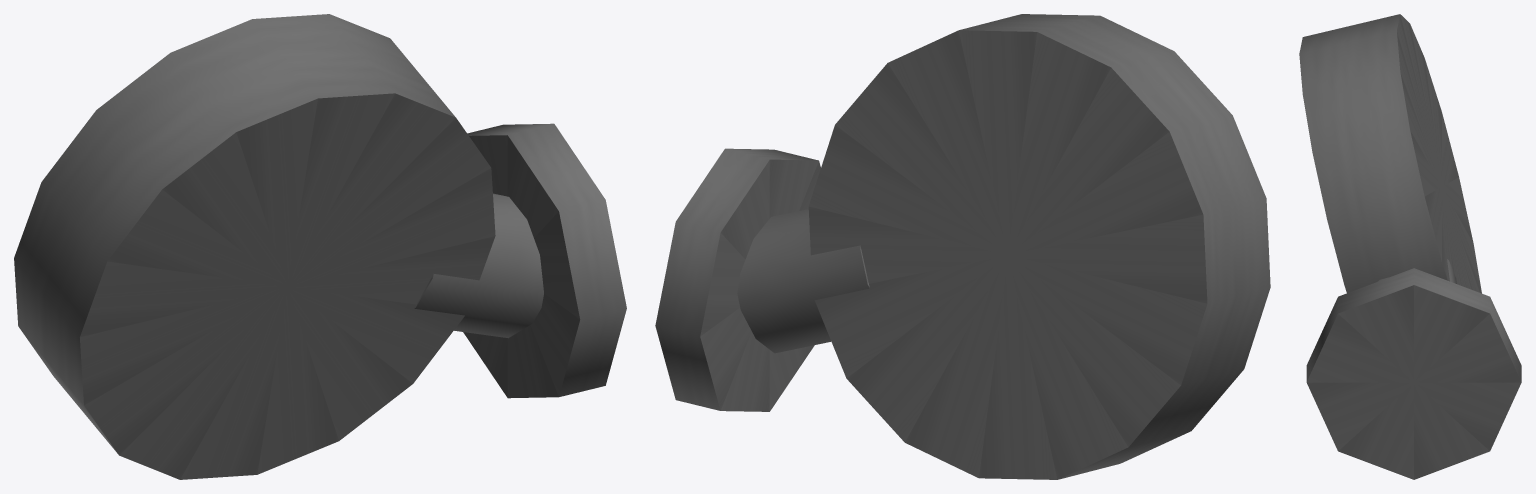
Rendered from mastarmcurve_10x2_c4_east.obj.
3 renders of one model, left to right at view 1: azimuth 30°, elevation 25°; view 2: azimuth 150°, elevation 25°; view 3: azimuth 270°, elevation 25°, orthographic. The views are drawn at different scales.
Visible parts, largest first — view 1: mastarm_10x2_c4_east; view 2: mastarm_10x2_c4_east; view 3: mastarm_10x2_c4_east.
Boxes of the visible parts, box(x1,y1,x2,y2) form: mastarm_10x2_c4_east: box(14, 14, 626, 479); mastarm_10x2_c4_east: box(655, 14, 1270, 479); mastarm_10x2_c4_east: box(1299, 14, 1521, 479).
Bounding box in the file's own units: 0.8301 × 0.6885 × 0.4135.
